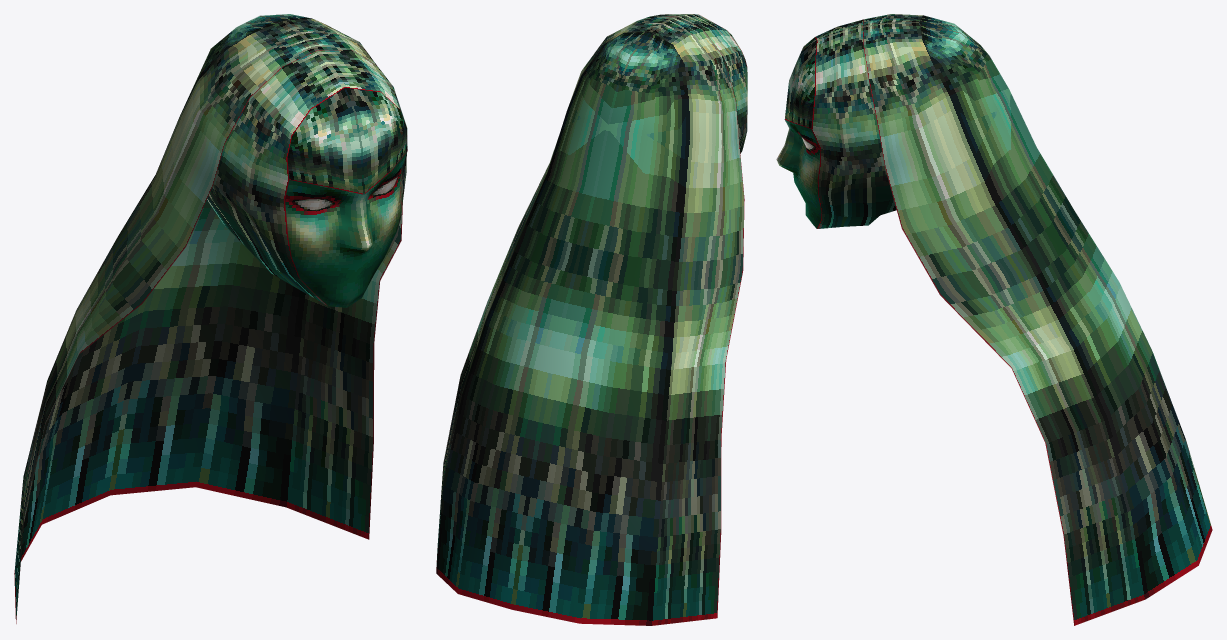
Rendered from f_hair252.glb.
3 views of the same model, side by side, from view 1: azimuth 30°, elevation 25°; view 2: azimuth 150°, elevation 25°; view 3: azimuth 270°, elevation 25° (orthographic). The views are drawn at different scales.
Size of the model in its own units: 35.93 by 61.19 by 45.53.
Materials: 1 (1 with a texture image).
